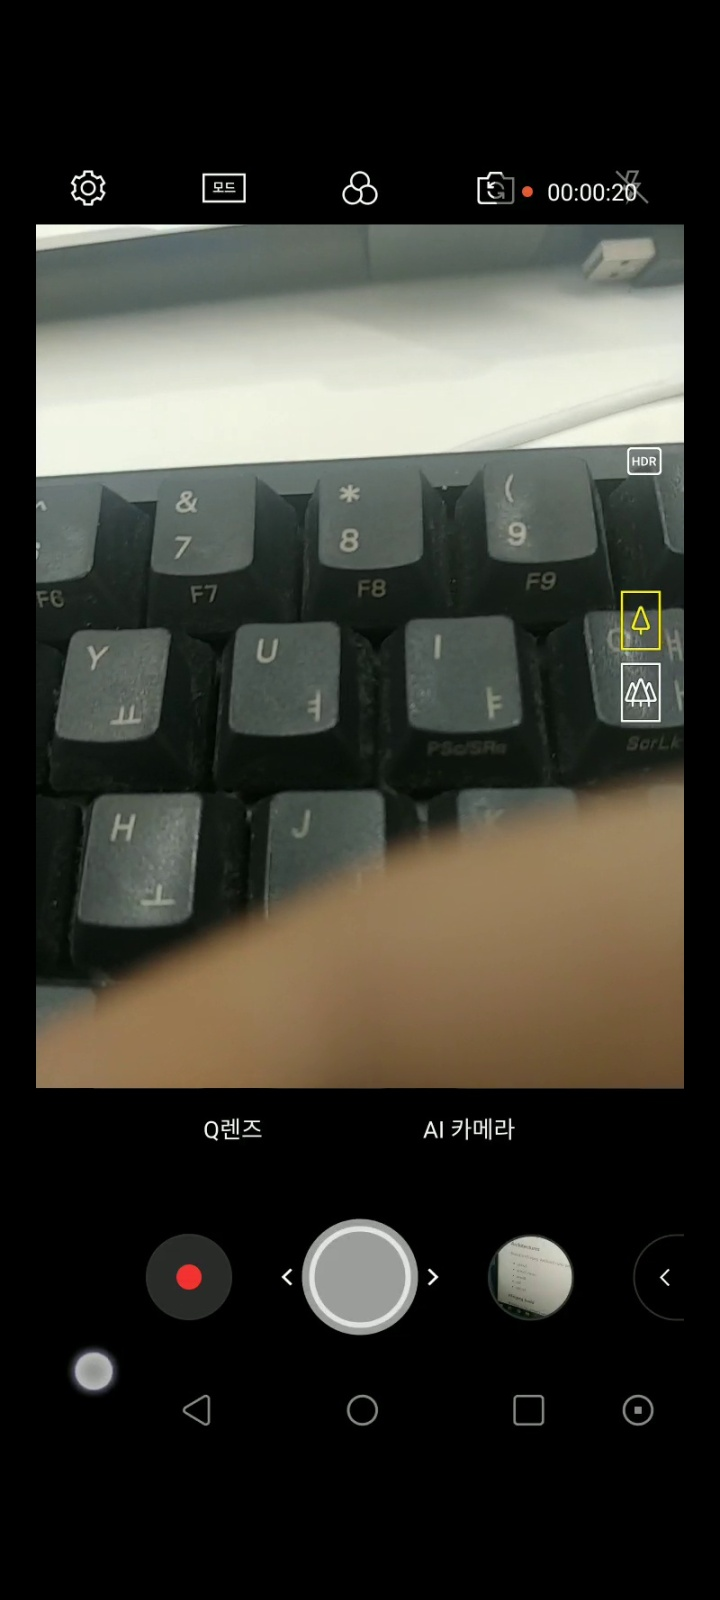Cursor: (72, 1348, 117, 1393)
